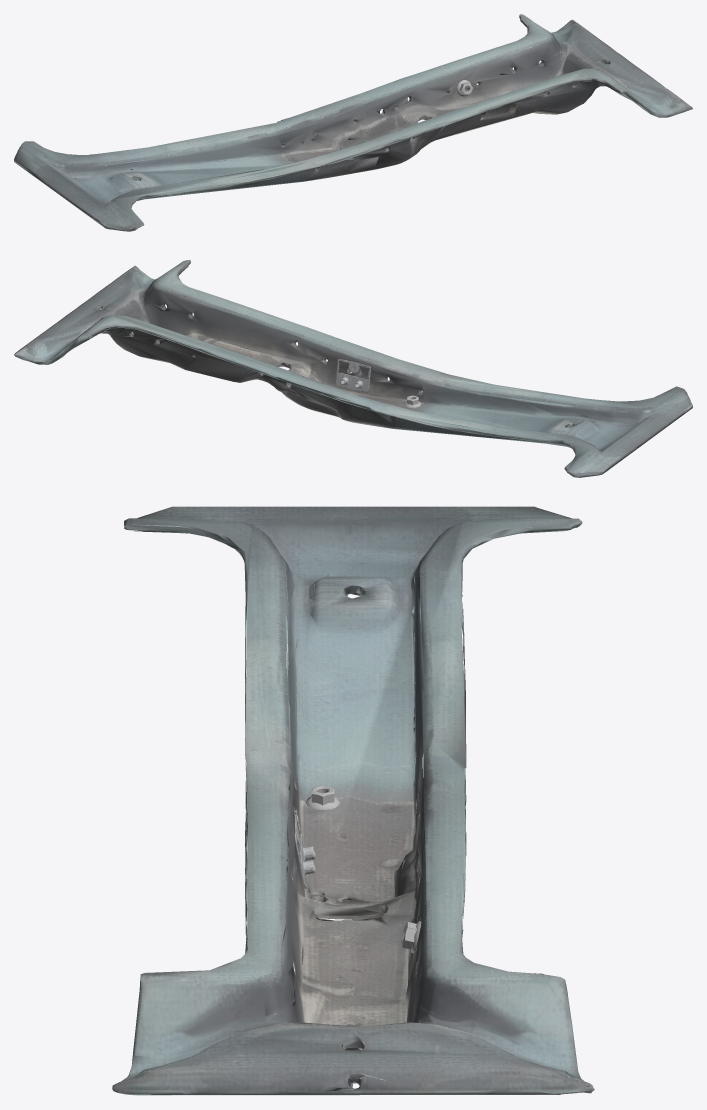
The picture shows the model from 3 angles, top to bottom: view 1: azimuth 30°, elevation 25°; view 2: azimuth 150°, elevation 25°; view 3: azimuth 270°, elevation 25°; orthographic projection. The views are drawn at different scales.
Parts seen in each view (by area): view 1: PecaPrincipal; view 2: PecaPrincipal, Chapa; view 3: PecaPrincipal.
Boxes of the visible parts, x1=… form: PecaPrincipal: x1=14, y1=14, x2=692, y2=231; PecaPrincipal: x1=14, y1=260, x2=692, y2=477; Chapa: x1=335, y1=359, x2=370, y2=392; PecaPrincipal: x1=112, y1=506, x2=594, y2=1095.
Bounding box in the file's own units: 1.9 × 0.1891 × 0.691.
Materials: 4 (2 with a texture image).
